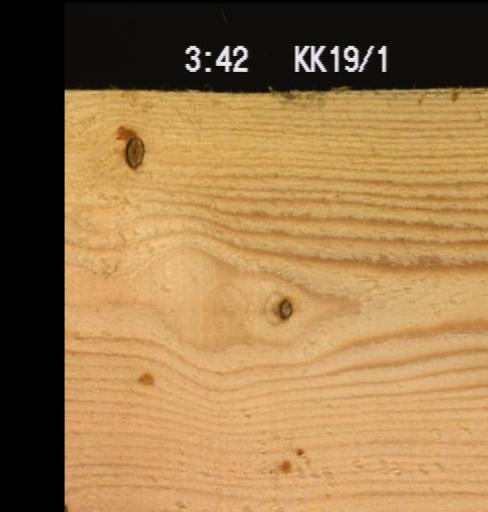dry_knot: (122, 134, 144, 168), (275, 295, 293, 319)
